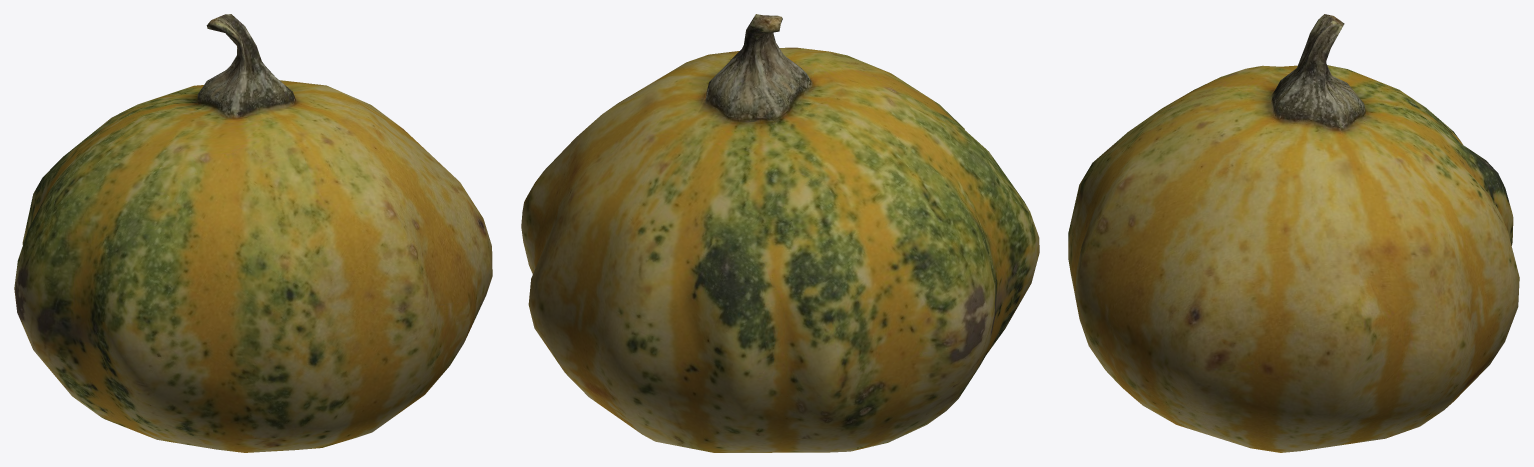
Rendered from PUMPKIN.fbx.
The picture shows the model from 3 angles, left to right: view 1: azimuth 30°, elevation 25°; view 2: azimuth 150°, elevation 25°; view 3: azimuth 270°, elevation 25°; orthographic projection. The views are drawn at different scales.
Parts seen in each view (by area): view 1: 60_pumpkin; view 2: 60_pumpkin; view 3: 60_pumpkin.
Part boxes in pixels (x1=…): 60_pumpkin: x1=14, y1=14, x2=492, y2=452; 60_pumpkin: x1=521, y1=14, x2=1039, y2=452; 60_pumpkin: x1=1068, y1=14, x2=1519, y2=452.
Size of the model in its own units: 39.35 by 34.4 by 36.67.
Materials: 1 (1 with a texture image).
